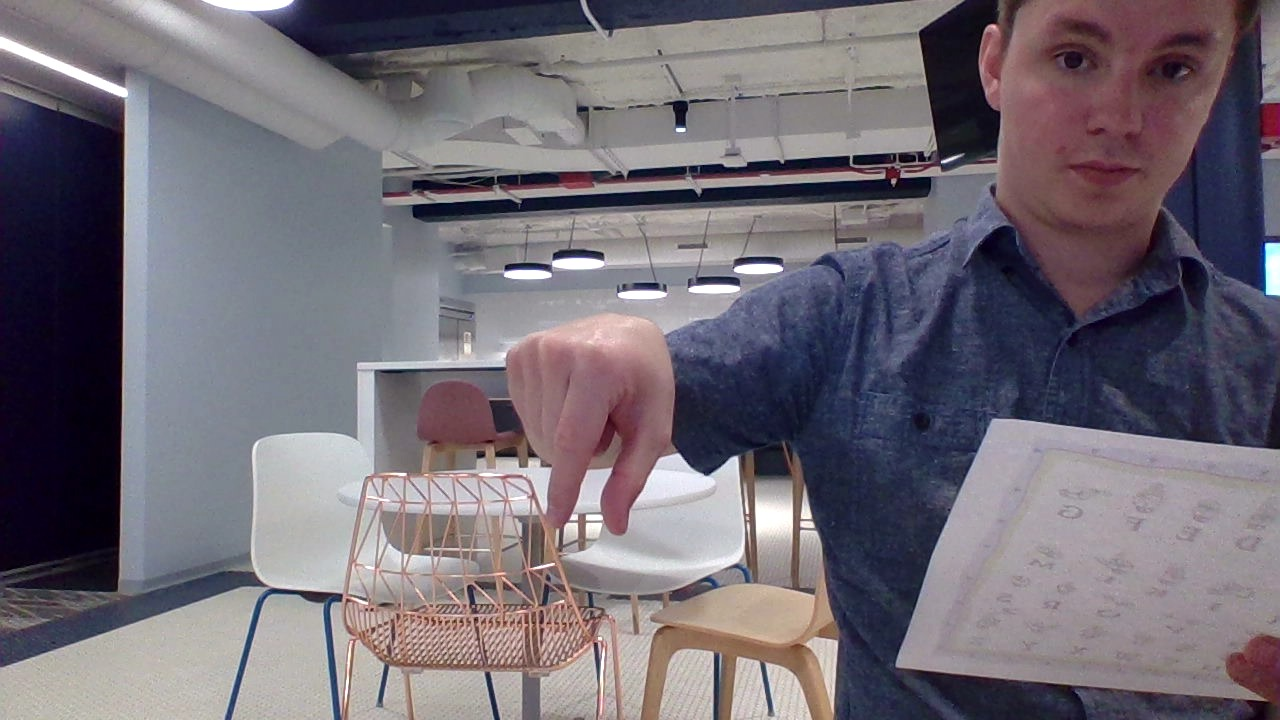q: (491, 293, 695, 563)
